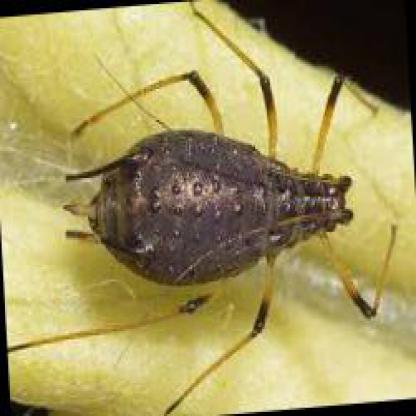uroleucon compositae: (7, 5, 397, 412)
